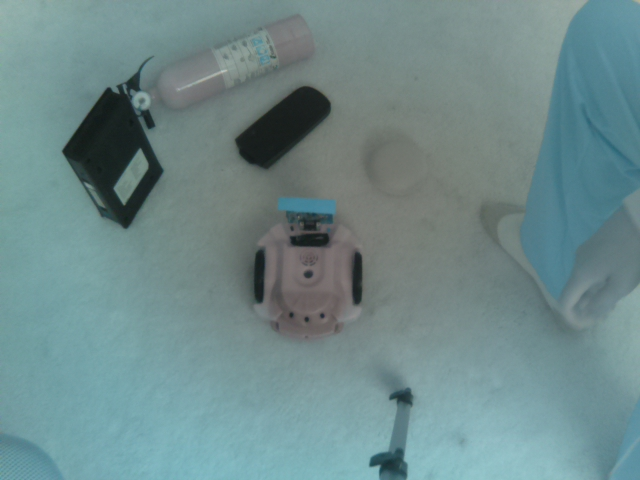board: (274, 189, 341, 226)
chassis: (238, 193, 391, 344)
